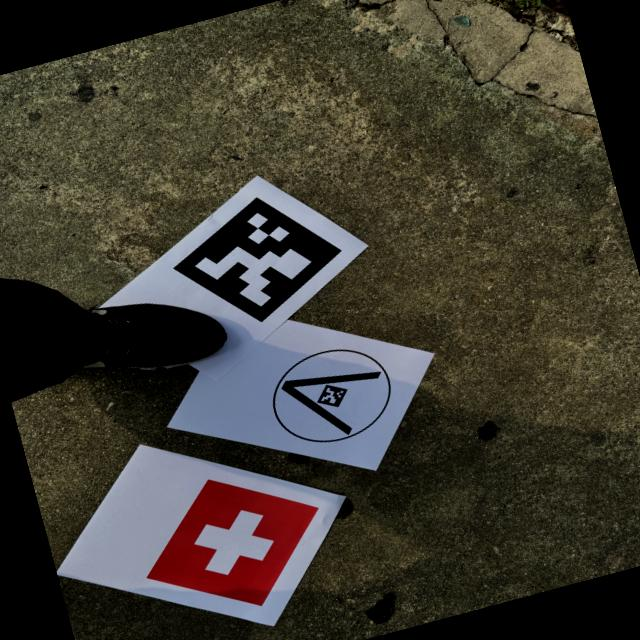ArUro mark: (166, 191, 348, 327)
rescue point: (141, 474, 325, 612)
vertiport: (256, 331, 404, 459)
